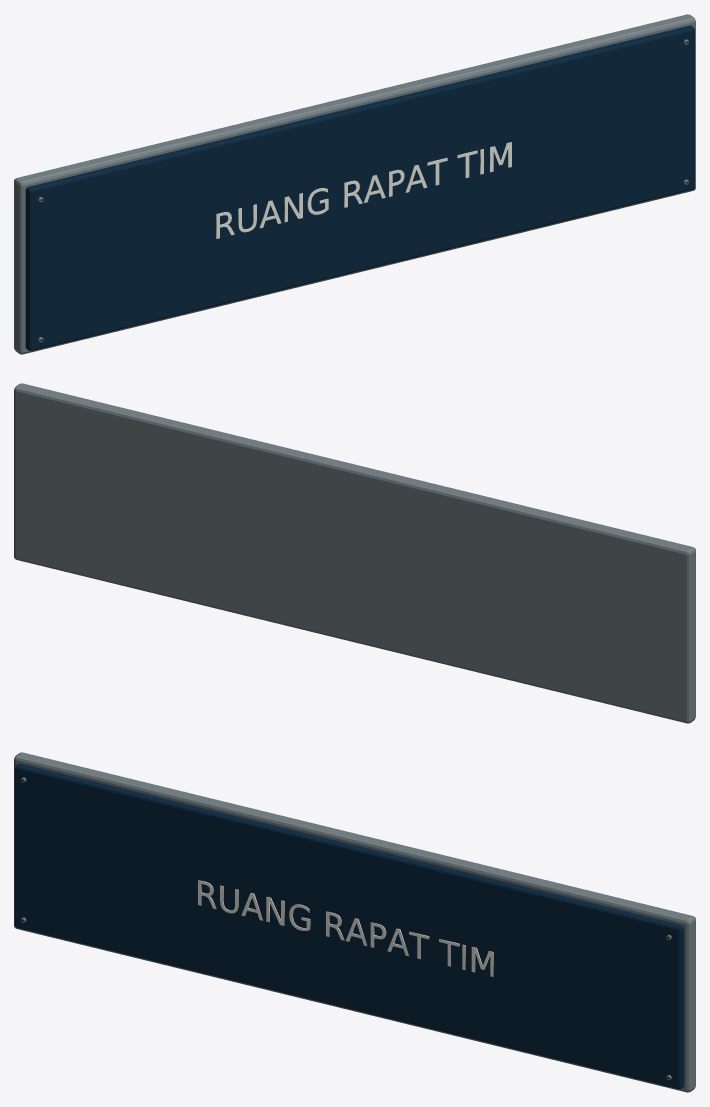
Rendered from OAA_Papan_Ruang_Ruang_Rapat_Tim.fbx.
3 renders of one model, top to bottom at view 1: azimuth 30°, elevation 25°; view 2: azimuth 150°, elevation 25°; view 3: azimuth 330°, elevation 25°, orthographic.
Parts seen in each view (by area): view 1: Body; view 2: Body; view 3: Body.
Part boxes in pixels (<box>): Body: <box>14,14,695,354</box>; Body: <box>14,383,695,723</box>; Body: <box>14,752,695,1092</box>.
Size of the model in its own units: 0.9 by 0.22 by 0.0312.
